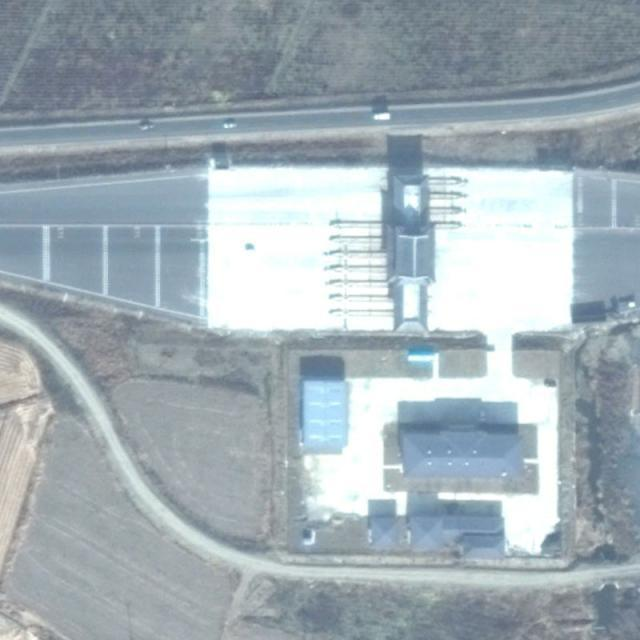vehicle: (373, 112, 391, 122), (222, 122, 238, 129), (141, 123, 154, 130)
